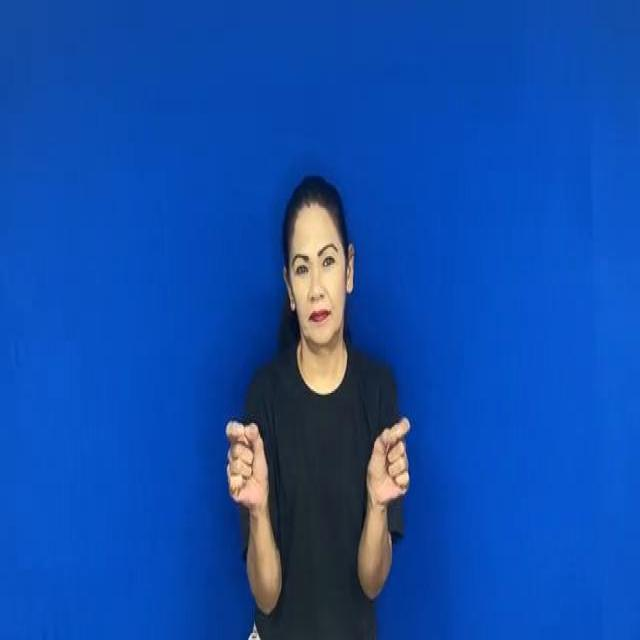crab: (203, 394, 425, 511)
